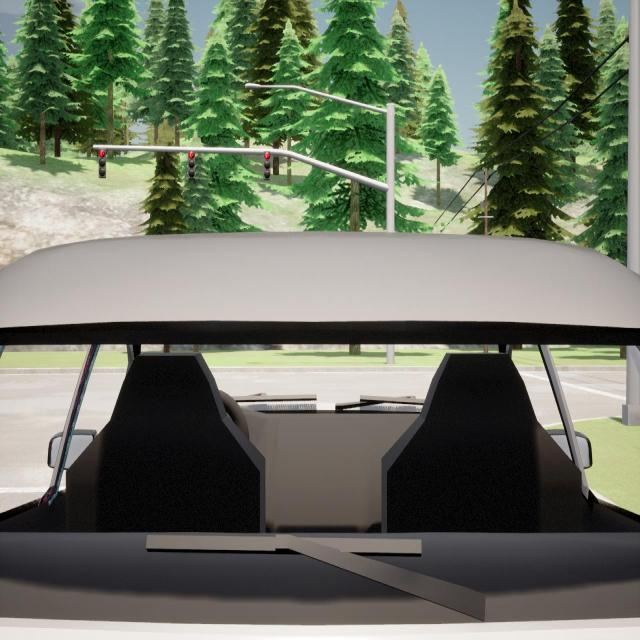Vehicle: (1, 232, 639, 639)
traffic_light: (98, 147, 106, 178), (188, 149, 195, 178), (264, 152, 271, 180)
